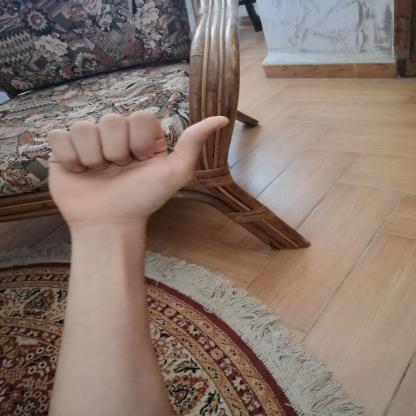DAD: (34, 100, 243, 235)
